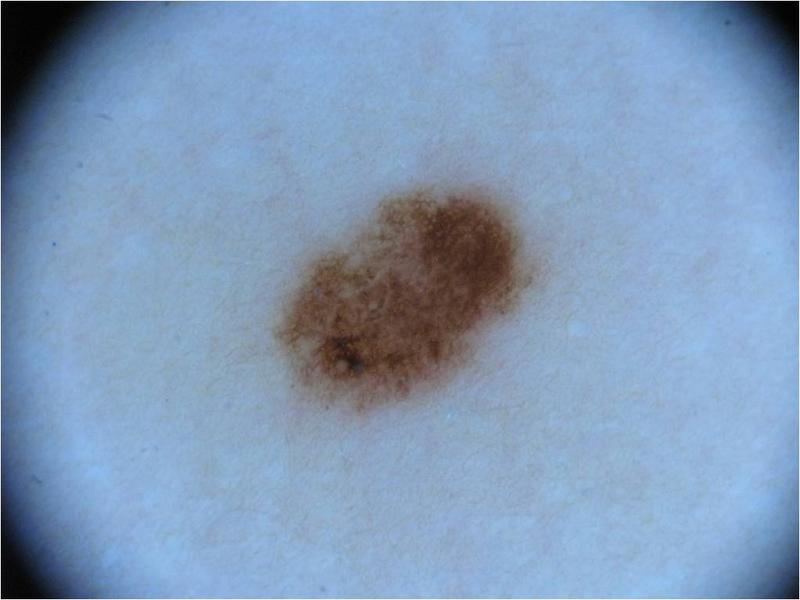Bengin: (302, 209, 509, 373)
